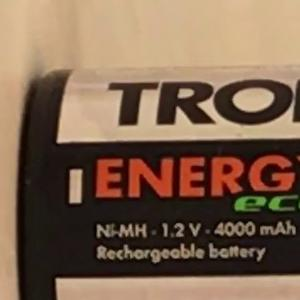keyword: (88, 215, 143, 246)
